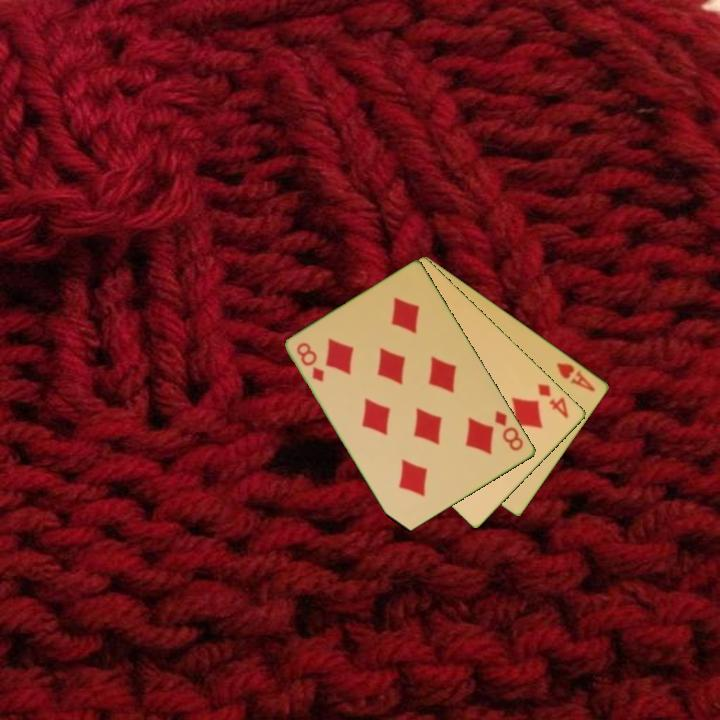4d: (534, 380, 572, 421)
8d: (491, 407, 527, 454), (293, 339, 328, 385)
Ah: (553, 359, 599, 395)
